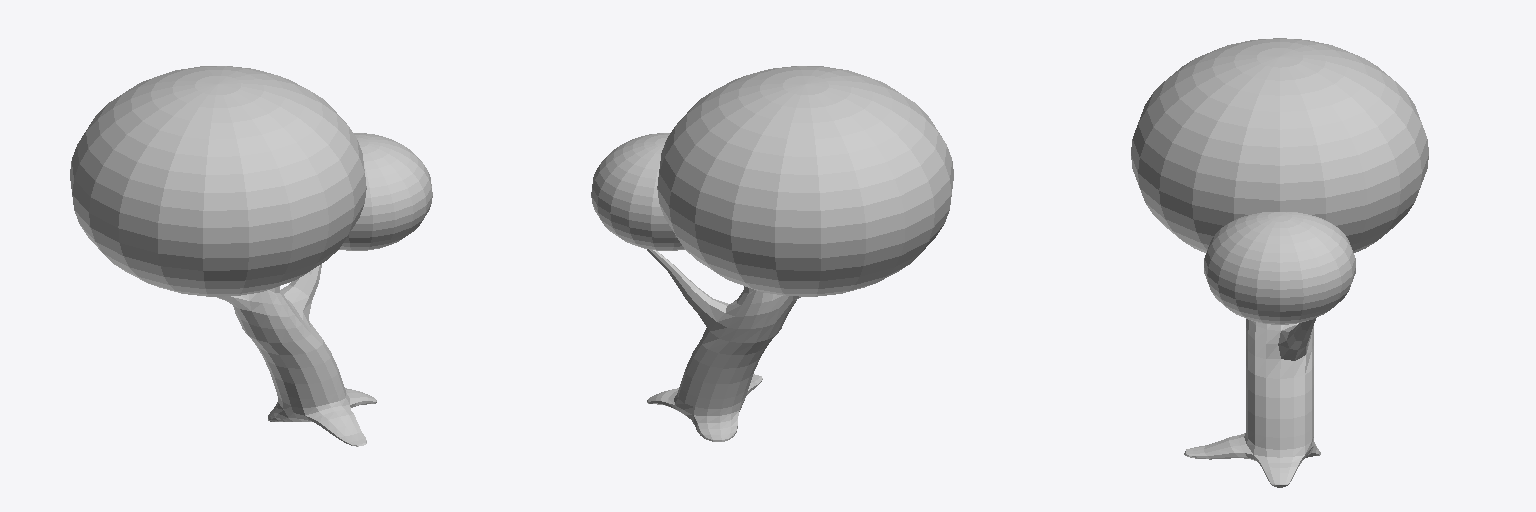
The model's file is tree.obj.
3 renders of one model, left to right at view 1: azimuth 30°, elevation 25°; view 2: azimuth 150°, elevation 25°; view 3: azimuth 270°, elevation 25°, orthographic.
Visible parts, largest first — view 1: pCube2; view 2: pCube2; view 3: pCube2.
Part boxes in pixels (left/top/right/bottom): pCube2: left=70, top=66, right=432, bottom=446; pCube2: left=591, top=66, right=953, bottom=441; pCube2: left=1131, top=38, right=1428, bottom=487.
Bounding box in the file's own units: 5.32 × 5.51 × 4.12.